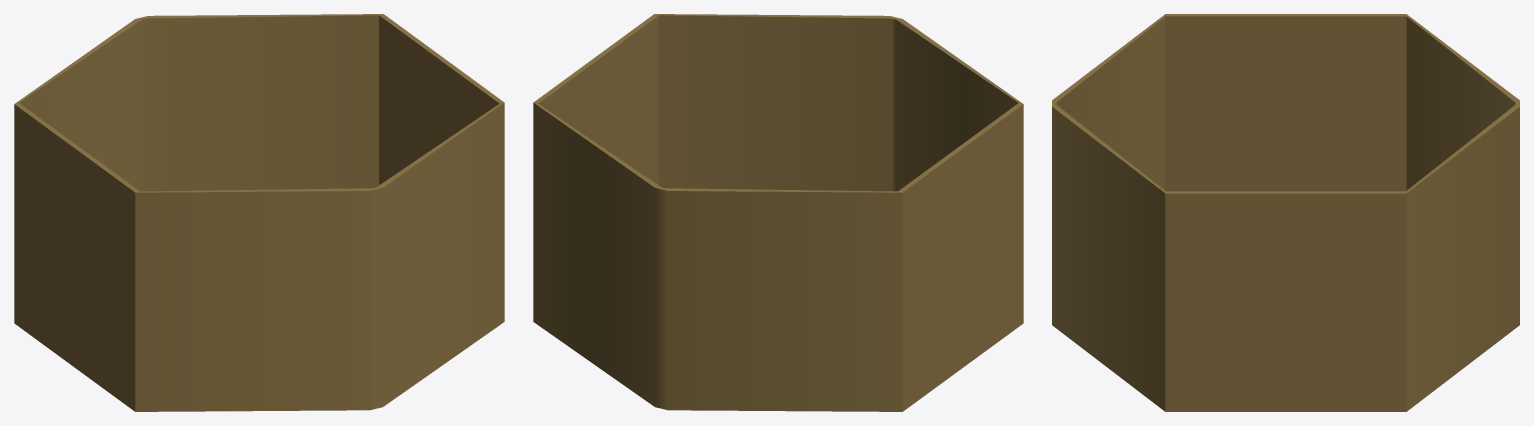
File: Cardboard_sleeve_open.fbx
3 renders of one model, left to right at view 1: azimuth 30°, elevation 25°; view 2: azimuth 150°, elevation 25°; view 3: azimuth 270°, elevation 25°, orthographic.
Visible parts, largest first — view 1: Cube_2; view 2: Cube_2; view 3: Cube_2.
Boxes of the visible parts, x1,y1,x2,y2 form: Cube_2: [14, 14, 504, 411]; Cube_2: [533, 14, 1023, 411]; Cube_2: [1052, 14, 1519, 411].
Size of the model in its own units: 352 by 200 by 388.
1 material, 1 textured.
